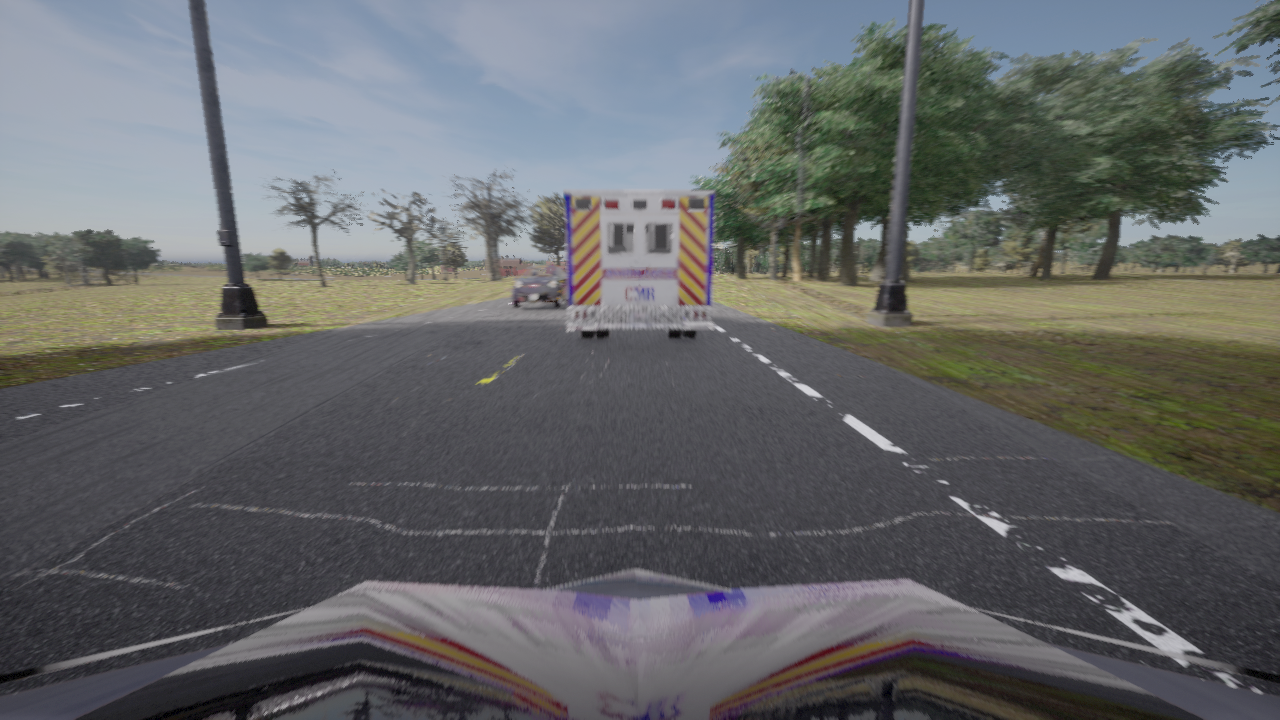cyclist: (0, 569, 1279, 719), (565, 190, 714, 338), (512, 265, 567, 307)
